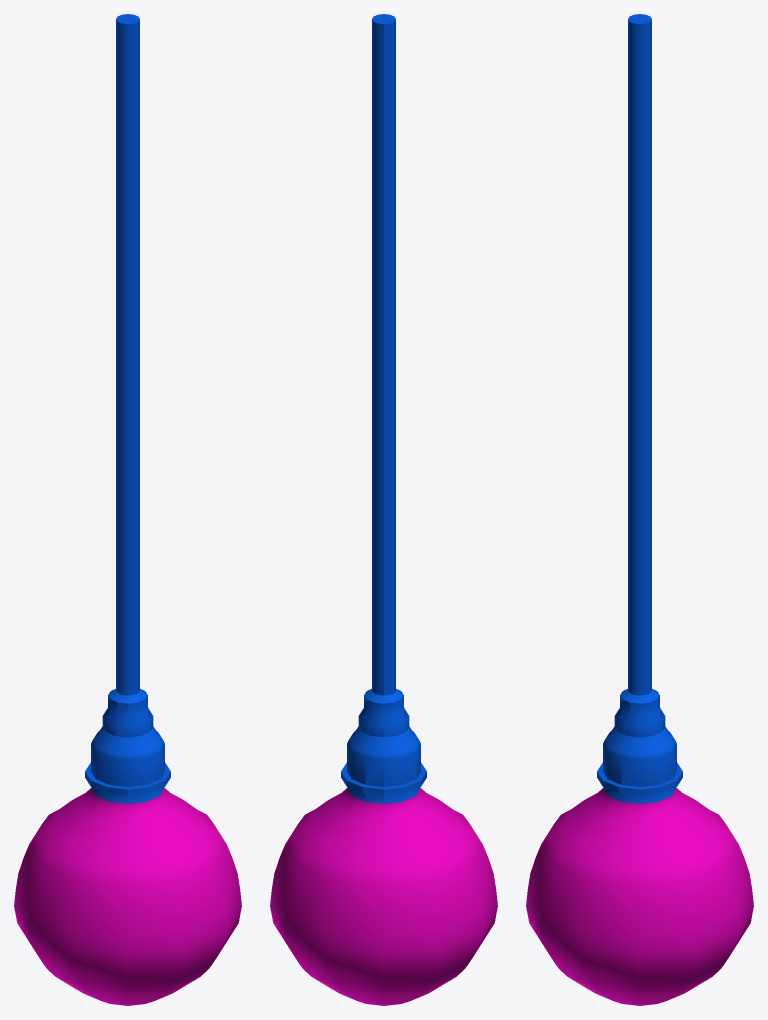
Rendered from lightbulb.fbx.
3 renders of one model, left to right at view 1: azimuth 30°, elevation 25°; view 2: azimuth 150°, elevation 25°; view 3: azimuth 270°, elevation 25°, orthographic.
Visible parts, largest first — view 1: Cylinder.003; view 2: Cylinder.003; view 3: Cylinder.003.
Part boxes in pixels (<box>): Cylinder.003: <box>14,14,241,1005</box>; Cylinder.003: <box>270,14,497,1005</box>; Cylinder.003: <box>526,14,753,1005</box>.
Size of the model in its own units: 0.0947 by 0.45 by 0.0947.
